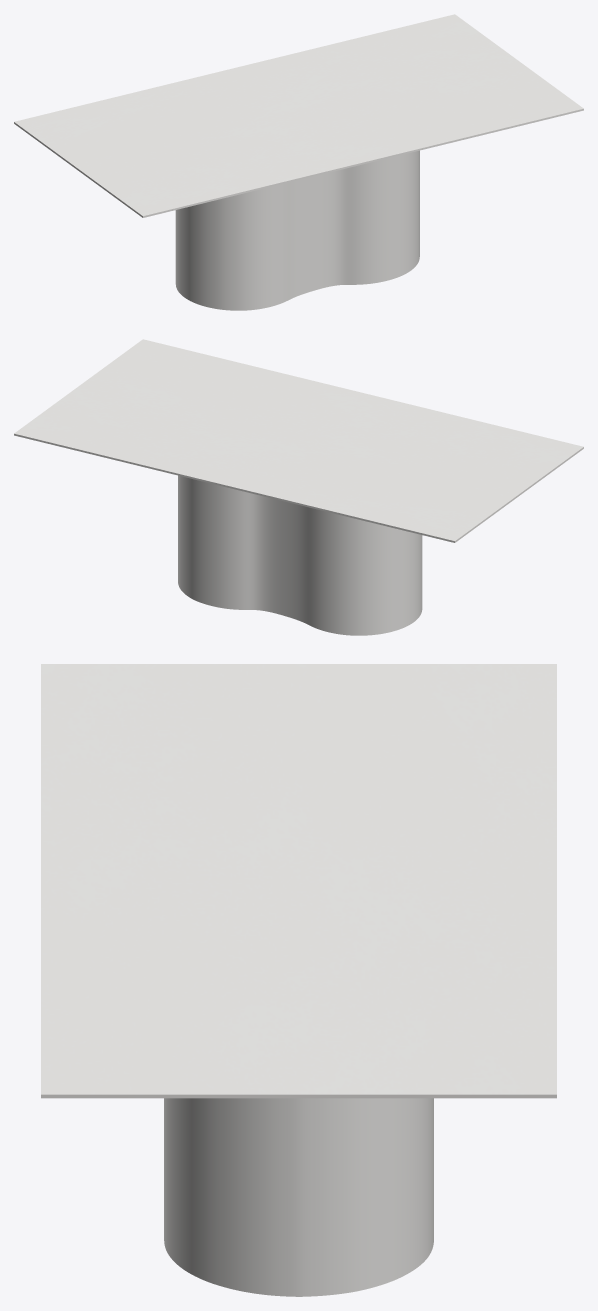
The model's file is purewhite_recta_facet_riverwave.glb.
The picture shows the model from 3 angles, top to bottom: view 1: azimuth 30°, elevation 25°; view 2: azimuth 150°, elevation 25°; view 3: azimuth 270°, elevation 25°; orthographic projection. The views are drawn at different scales.
Visible parts, largest first — view 1: facet_recta, riverwave; view 2: facet_recta, riverwave; view 3: facet_recta, riverwave.
Part boxes in pixels (bbox=[...]): facet_recta: bbox=[14, 14, 583, 217]; riverwave: bbox=[175, 150, 419, 310]; facet_recta: bbox=[14, 339, 583, 542]; riverwave: bbox=[178, 475, 422, 635]; facet_recta: bbox=[41, 664, 556, 1098]; riverwave: bbox=[164, 1098, 433, 1296].
Size of the model in its own units: 7.5 by 2.51 by 3.8.
Materials: 1 (1 with a texture image).
